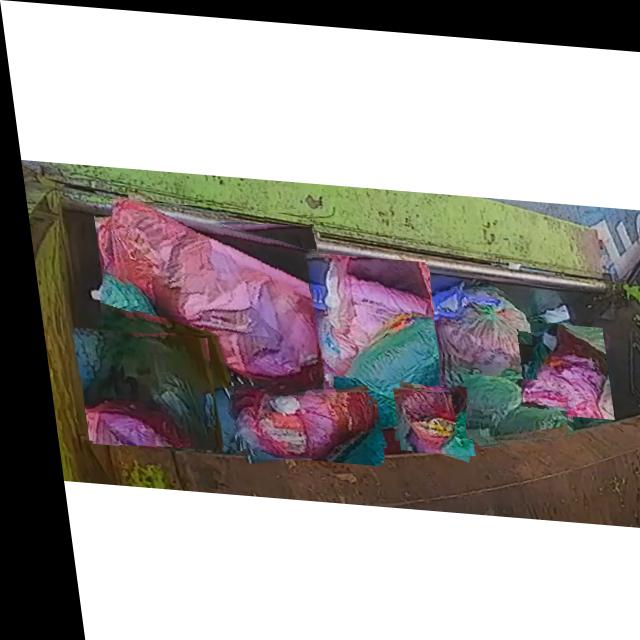other_trashbag: (105, 199, 318, 389), (74, 330, 205, 441), (308, 250, 425, 369), (432, 281, 525, 386), (228, 394, 362, 456), (515, 319, 599, 408), (443, 368, 559, 432), (389, 385, 463, 445)
